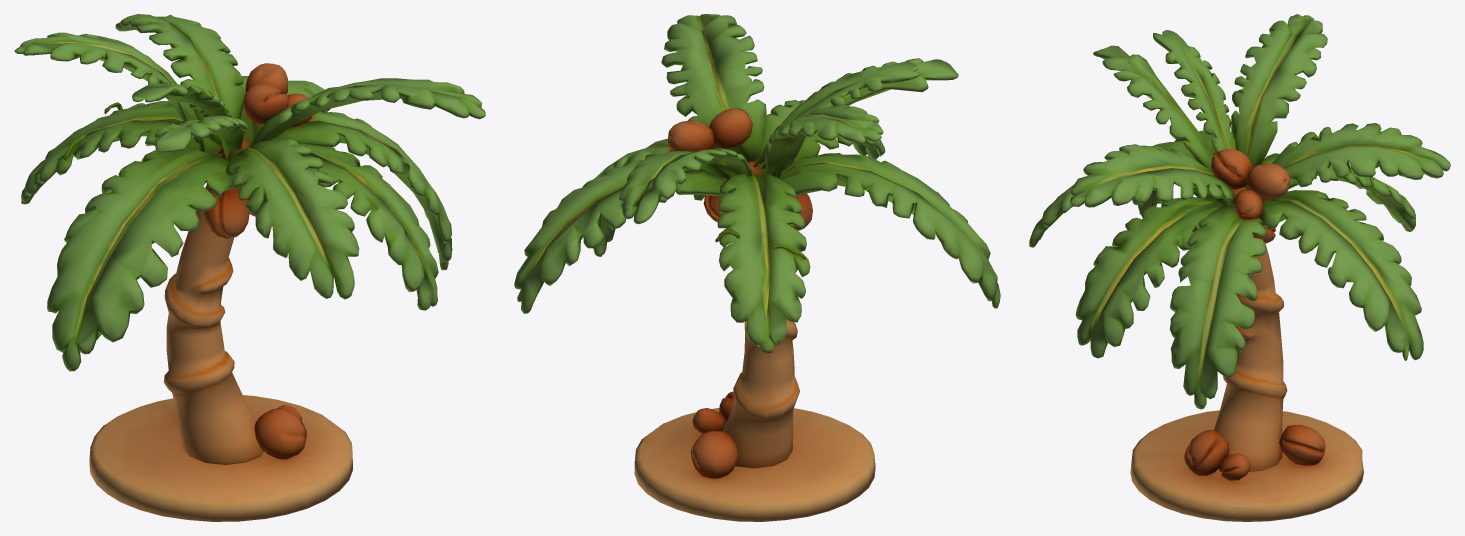
File: r33-palm.glb
3 renders of one model, left to right at view 1: azimuth 30°, elevation 25°; view 2: azimuth 150°, elevation 25°; view 3: azimuth 270°, elevation 25°, orthographic. The views are drawn at different scales.
Parts seen in each view (by area): view 1: tripo_node_ab003a81-5398-46e2-b7b0-6245116ffcac; view 2: tripo_node_ab003a81-5398-46e2-b7b0-6245116ffcac; view 3: tripo_node_ab003a81-5398-46e2-b7b0-6245116ffcac.
Boxes of the visible parts, left/top/right/bottom form: tripo_node_ab003a81-5398-46e2-b7b0-6245116ffcac: left=14, top=14, right=485, bottom=521; tripo_node_ab003a81-5398-46e2-b7b0-6245116ffcac: left=514, top=14, right=1000, bottom=521; tripo_node_ab003a81-5398-46e2-b7b0-6245116ffcac: left=1029, top=14, right=1450, bottom=521.
Size of the model in its own units: 0.9941 by 0.998 by 0.9785.
1 material, 1 textured.
